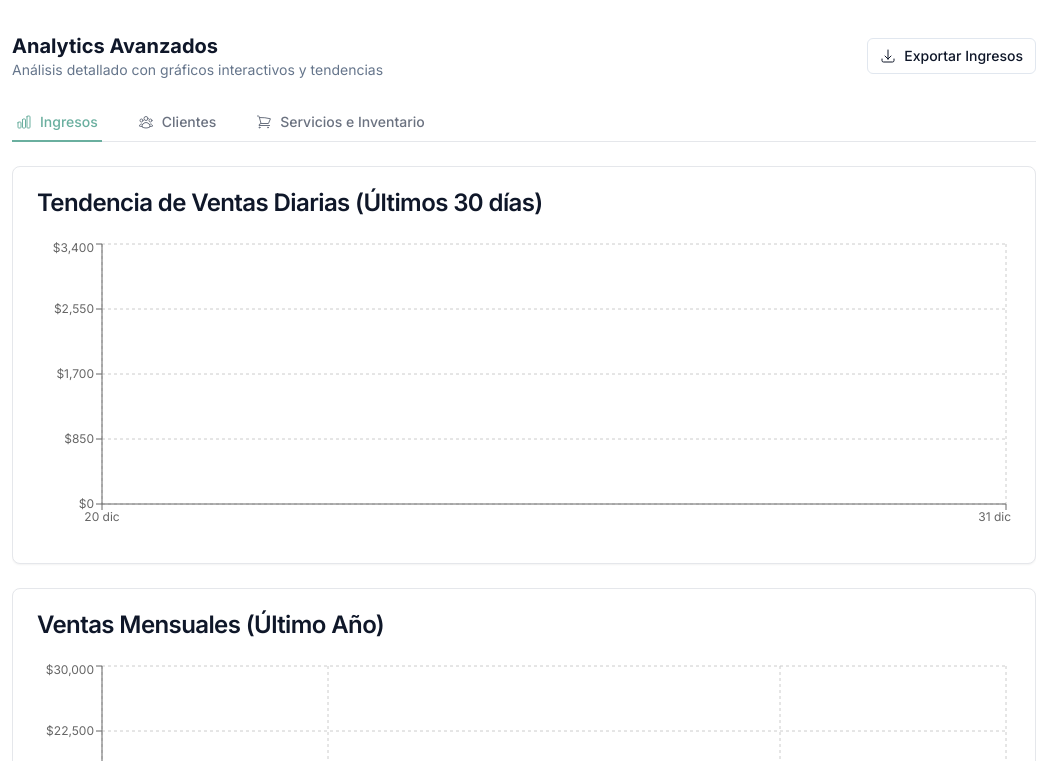
Test: AdvancedReportsSection › Tab Navigation › should update export button text based on active tab
Check: the button "Exportar Ingresos" is shown, box 867,38 -> 1036,74
Note: Switch to Clientes
Click the button "Clientes" at (177, 123), box 134,104 -> 220,142
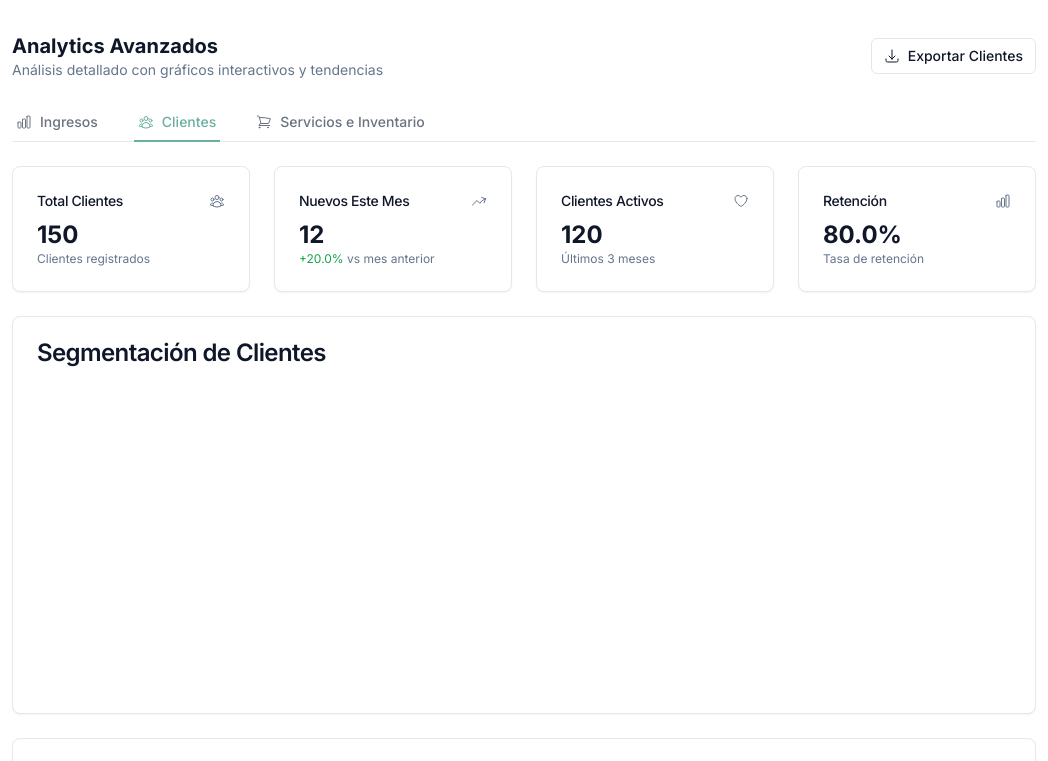
Check: the button "Exportar Clientes" is shown, box 871,38 -> 1036,74
Note: Switch to Servicios e Inventario
Click the button "Servicios e Inventario" at (340, 123), box 252,104 -> 429,142
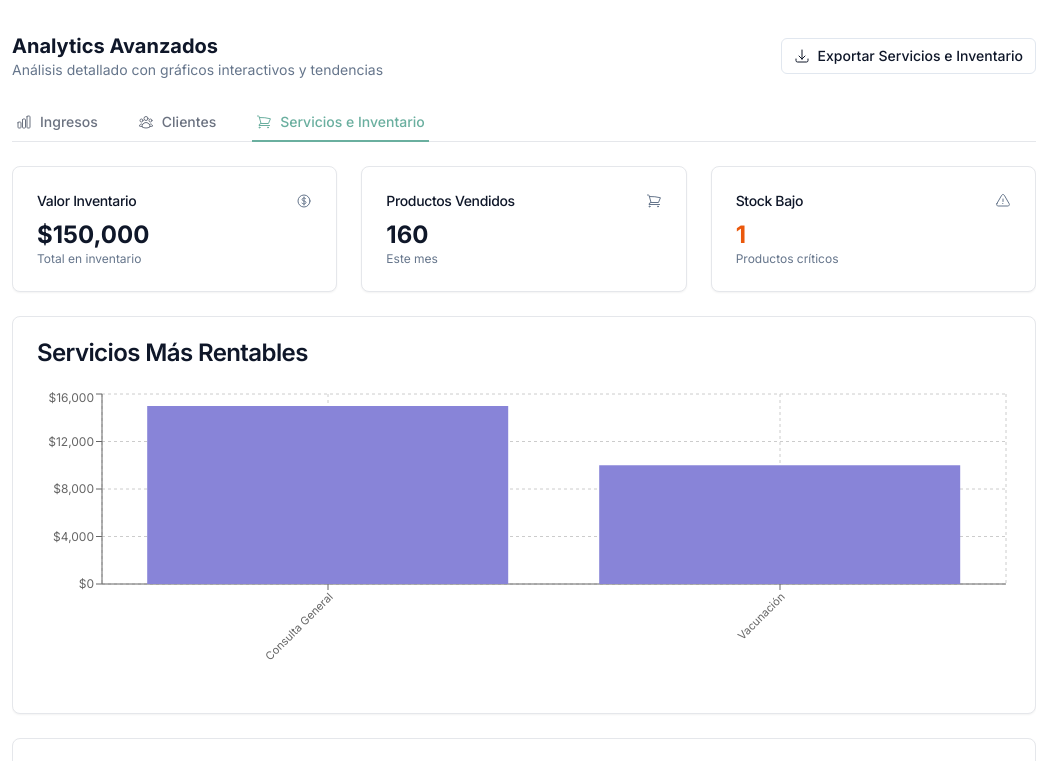
Check: the button "Exportar Servicios e Inventario" is shown, box 780,38 -> 1036,74
